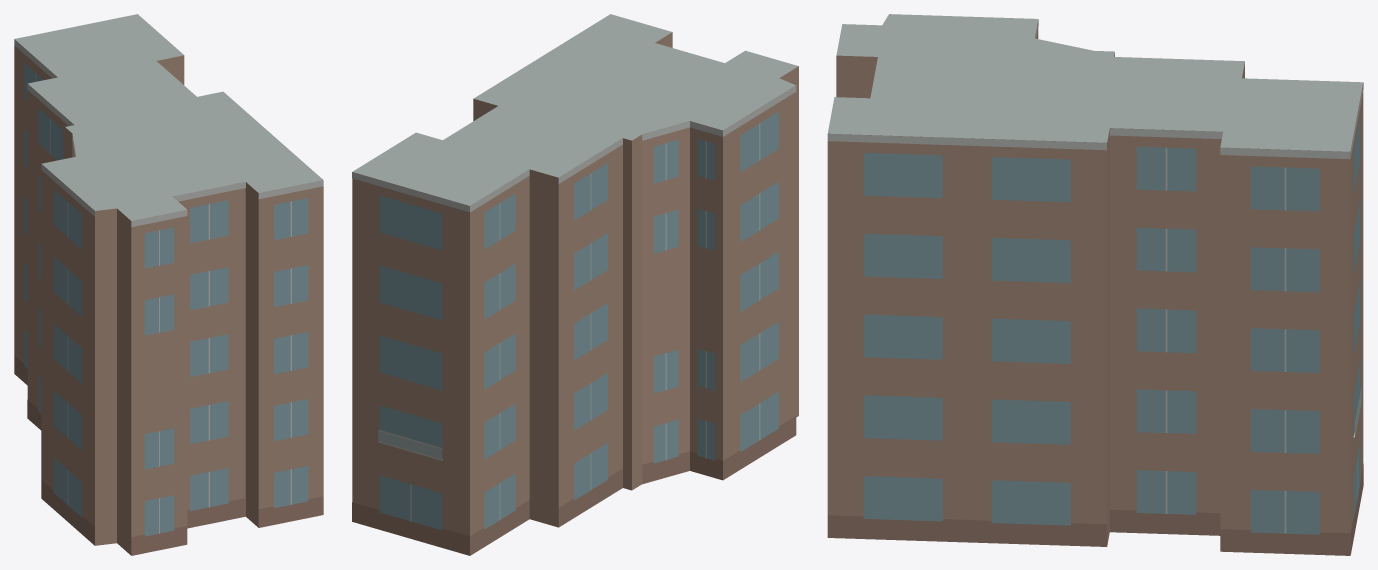
The model's file is survey-upis-32981374.glb.
The picture shows the model from 3 angles, left to right: view 1: azimuth 30°, elevation 25°; view 2: azimuth 150°, elevation 25°; view 3: azimuth 270°, elevation 25°; orthographic projection. The views are drawn at different scales.
Visible parts, largest first — view 1: survey-upis-32981374.tmp; view 2: survey-upis-32981374.tmp; view 3: survey-upis-32981374.tmp.
Boxes of the visible parts, x1,y1,x2,y2 form: survey-upis-32981374.tmp: [14, 14, 323, 555]; survey-upis-32981374.tmp: [352, 14, 798, 555]; survey-upis-32981374.tmp: [827, 14, 1363, 555].
Bounding box in the file's own units: 9.66 × 13.2 × 15.87.
